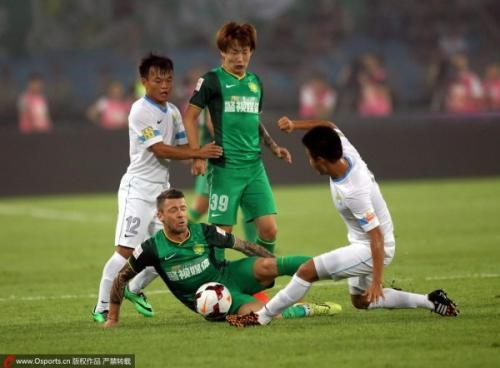bending: (220, 111, 466, 330), (98, 183, 322, 330)
up: (92, 56, 192, 323), (196, 18, 290, 299)
